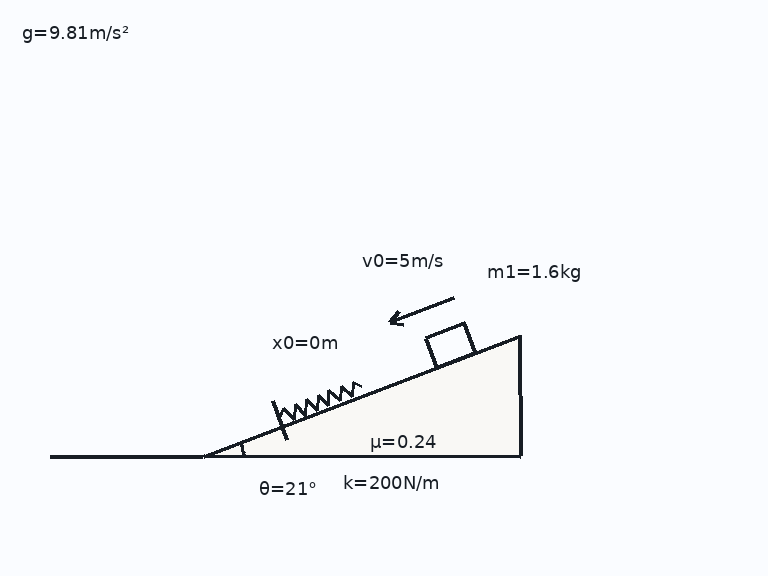block: (423, 321, 477, 369)
ramp: (201, 333, 521, 458)
spring: (277, 379, 363, 421)
